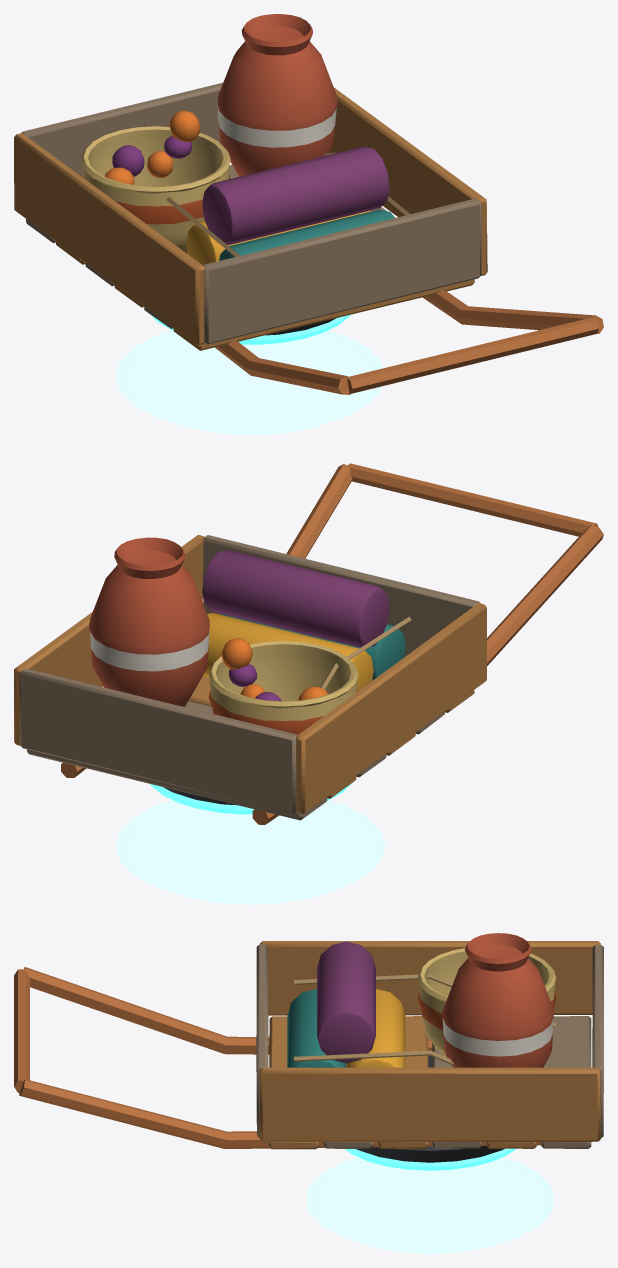
File: deco_handcart_hover.fbx
The picture shows the model from 3 angles, top to bottom: view 1: azimuth 30°, elevation 25°; view 2: azimuth 150°, elevation 25°; view 3: azimuth 270°, elevation 25°; orthographic projection. The views are drawn at different scales.
Parts seen in each view (by area): view 1: Handcart_Hover_Bed, Handcart_Hover_Load, Handcart_Hover_HoverGlow, Handcart_Hover_Handles, Handcart_Hover_HoverCore; view 2: Handcart_Hover_Bed, Handcart_Hover_Load, Handcart_Hover_HoverGlow, Handcart_Hover_Handles, Handcart_Hover_HoverCore; view 3: Handcart_Hover_Bed, Handcart_Hover_Load, Handcart_Hover_HoverGlow, Handcart_Hover_Handles, Handcart_Hover_HoverCore.
Boxes of the visible parts, bbox=[...] form: Handcart_Hover_Bed: bbox=[14, 82, 487, 350]; Handcart_Hover_Load: bbox=[81, 14, 410, 265]; Handcart_Hover_HoverGlow: bbox=[115, 330, 382, 434]; Handcart_Hover_Handles: bbox=[215, 290, 603, 394]; Handcart_Hover_HoverCore: bbox=[150, 314, 350, 344]; Handcart_Hover_Bed: bbox=[14, 534, 486, 820]; Handcart_Hover_Load: bbox=[89, 537, 411, 735]; Handcart_Hover_HoverGlow: bbox=[115, 800, 385, 904]; Handcart_Hover_Handles: bbox=[61, 463, 603, 824]; Handcart_Hover_HoverCore: bbox=[150, 782, 352, 814]; Handcart_Hover_Bed: bbox=[256, 941, 603, 1149]; Handcart_Hover_Load: bbox=[287, 933, 556, 1067]; Handcart_Hover_HoverGlow: bbox=[305, 1157, 554, 1253]; Handcart_Hover_Handles: bbox=[14, 967, 541, 1148]; Handcart_Hover_HoverCore: bbox=[344, 1056, 516, 1170].
Size of the model in its own units: 137 by 140 by 260.
